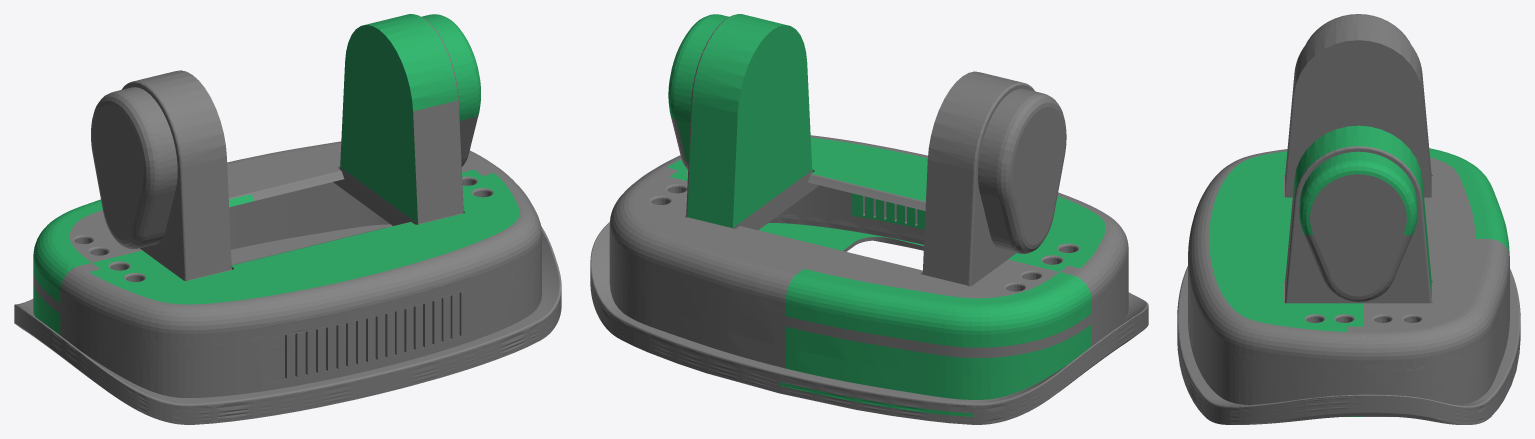
The model's file is 0221_REV-A_URDF_Head2.dae.
3 views of the same model, side by side, from view 1: azimuth 30°, elevation 25°; view 2: azimuth 150°, elevation 25°; view 3: azimuth 270°, elevation 25° (orthographic). The views are drawn at different scales.
Visible parts, largest first — view 1: node; view 2: node; view 3: node.
Boxes of the visible parts, left/top/right/bottom form: node: left=14, top=14, right=561, bottom=424; node: left=590, top=14, right=1148, bottom=424; node: left=1177, top=14, right=1520, bottom=424.
Size of the model in its own units: 248 by 133 by 163.
